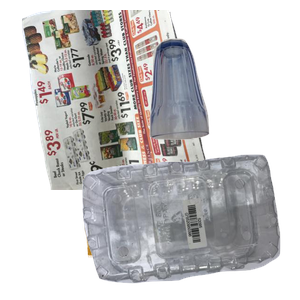glass: (147, 36, 300, 168)
paper: (19, 10, 223, 190)
plastic: (80, 152, 300, 300)
trash: (81, 168, 261, 300)
